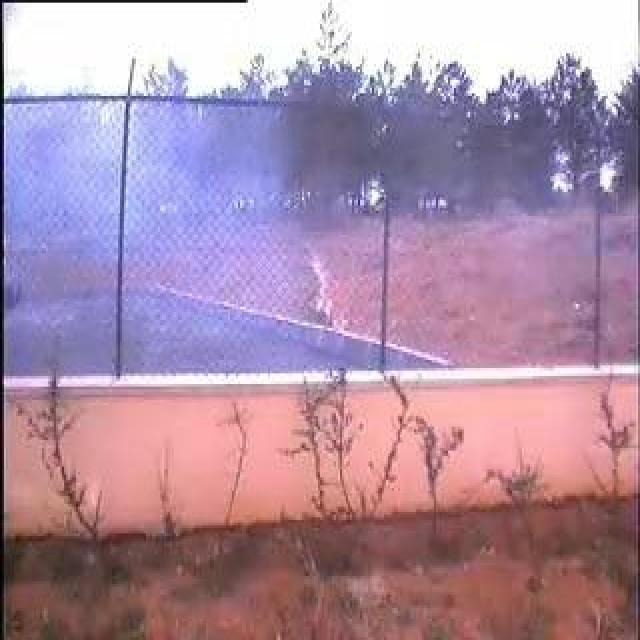Smoke: (68, 104, 330, 355)
